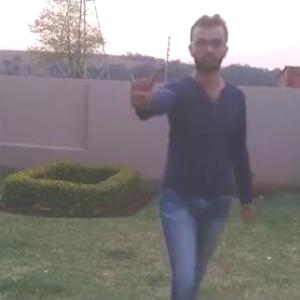takeoff-hand: (118, 66, 158, 107)
